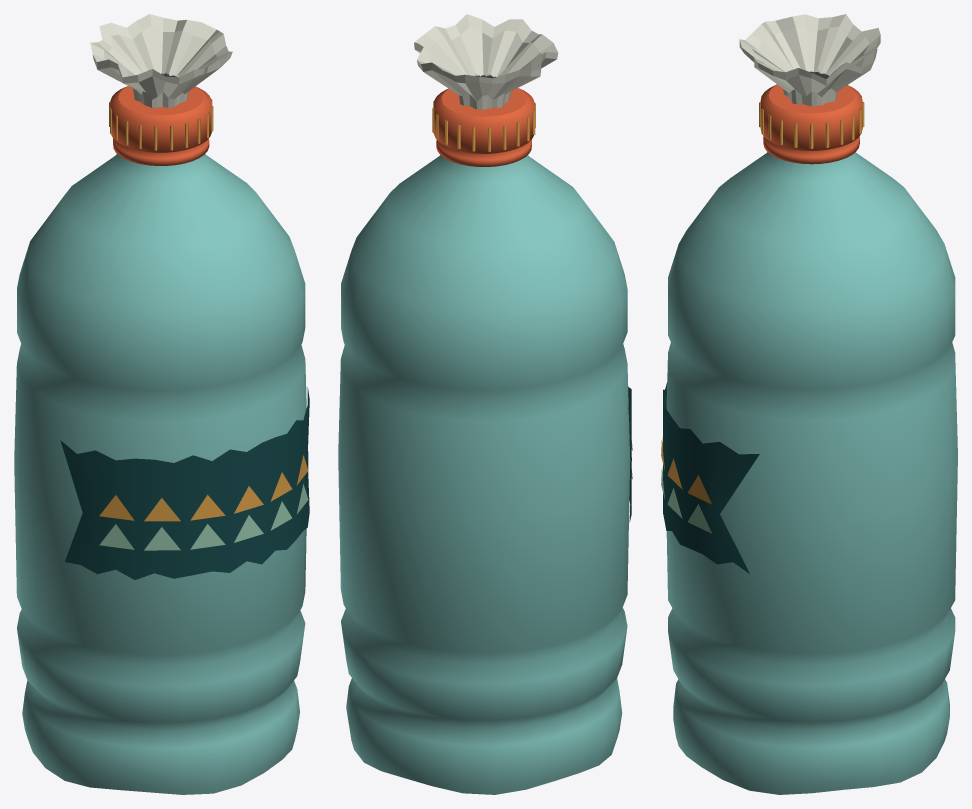
Rendered from bong_bottle.glb.
3 renders of one model, left to right at view 1: azimuth 30°, elevation 25°; view 2: azimuth 150°, elevation 25°; view 3: azimuth 270°, elevation 25°, orthographic.
Visible parts, largest first — view 1: Bottle, Bowl, Cap; view 2: Bottle, Bowl, Cap; view 3: Bottle, Bowl, Cap.
Boxes of the visible parts, x1=… form: Bottle: x1=14, y1=154, x2=309, y2=794; Bowl: x1=90, y1=14, x2=232, y2=107; Cap: x1=109, y1=86, x2=213, y2=165; Bottle: x1=338, y1=155, x2=632, y2=794; Bowl: x1=414, y1=14, x2=558, y2=109; Cap: x1=432, y1=88, x2=535, y2=166; Bottle: x1=661, y1=152, x2=957, y2=794; Bowl: x1=739, y1=14, x2=880, y2=106; Cap: x1=759, y1=84, x2=864, y2=164.
Size of the model in its own units: 0.11 by 0.2886 by 0.1108.
